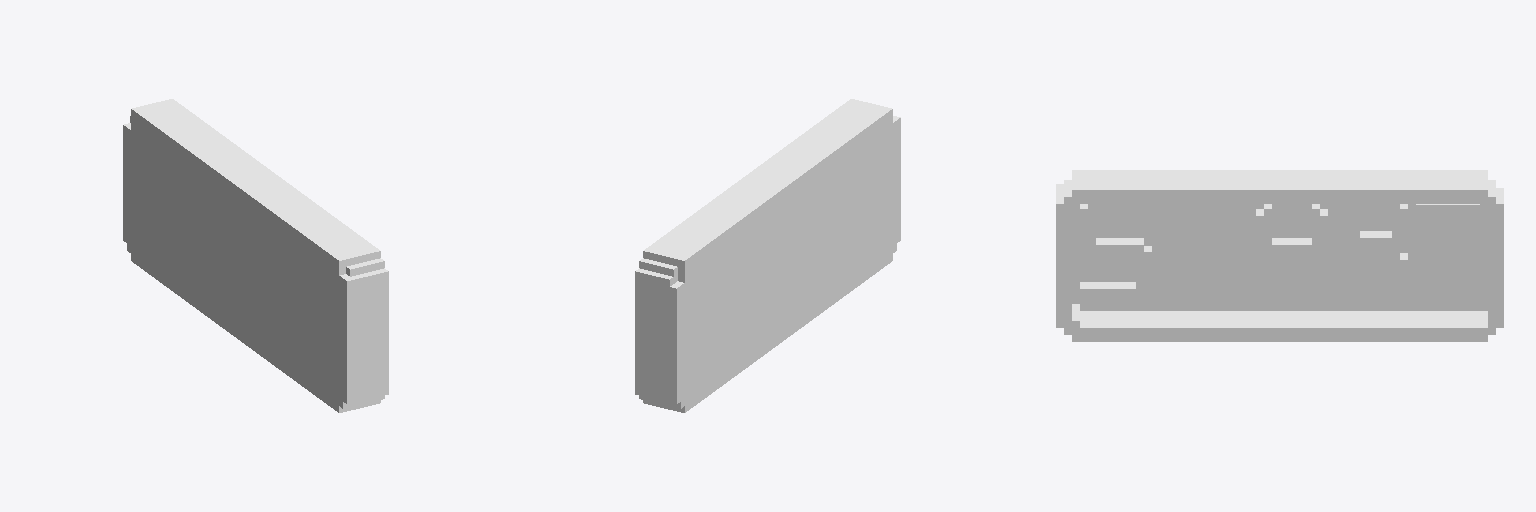
File: StartGamePanel.obj
3 views of the same model, side by side, from view 1: azimuth 30°, elevation 25°; view 2: azimuth 150°, elevation 25°; view 3: azimuth 270°, elevation 25° (orthographic).
Visible parts, largest first — view 1: object 1; view 2: object 1; view 3: object 1.
Boxes of the visible parts, x1,y1,x2,y2 form: object 1: [123, 99, 388, 412]; object 1: [635, 99, 900, 412]; object 1: [1056, 170, 1503, 341].
Bounding box in the file's own units: 0.6 × 2.1 × 5.6.